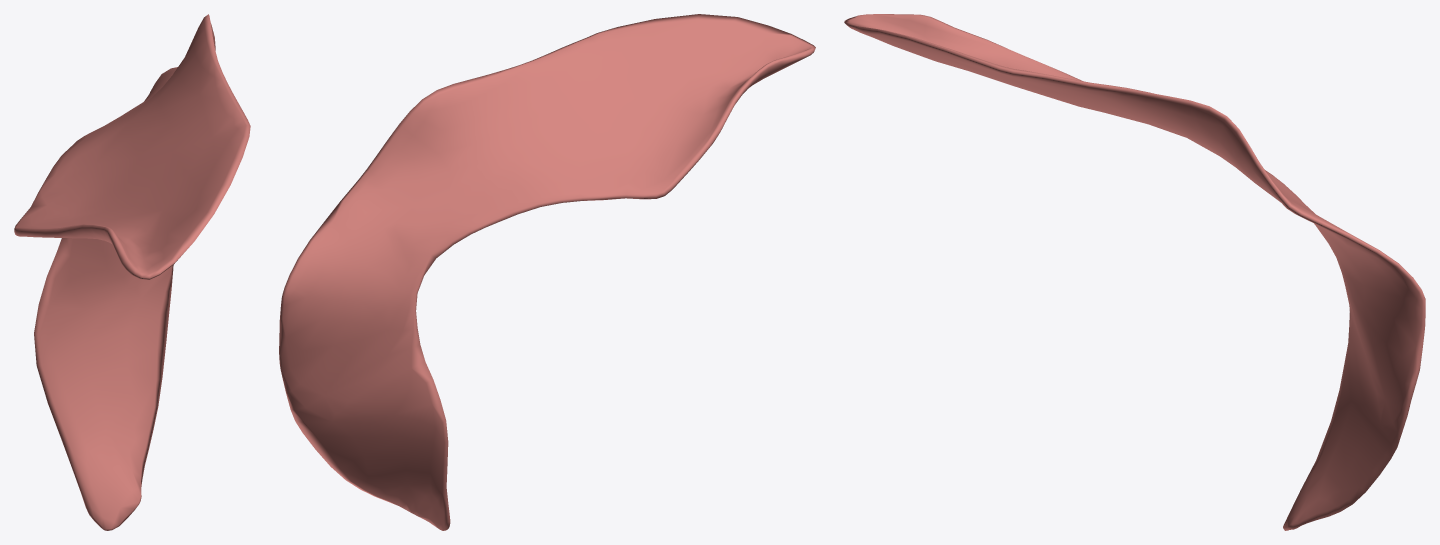
3 renders of one model, left to right at view 1: azimuth 30°, elevation 25°; view 2: azimuth 150°, elevation 25°; view 3: azimuth 270°, elevation 25°, orthographic. The views are drawn at different scales.
Parts seen in each view (by area): view 1: ZA_4fe13b615c80f223; view 2: ZA_4fe13b615c80f223; view 3: ZA_4fe13b615c80f223.
Boxes of the visible parts, left/top/right/bottom form: ZA_4fe13b615c80f223: left=14, top=14, right=250, bottom=530; ZA_4fe13b615c80f223: left=279, top=14, right=815, bottom=530; ZA_4fe13b615c80f223: left=844, top=14, right=1425, bottom=530.
Size of the model in its own units: 0.0228 by 0.0316 by 0.0369.
